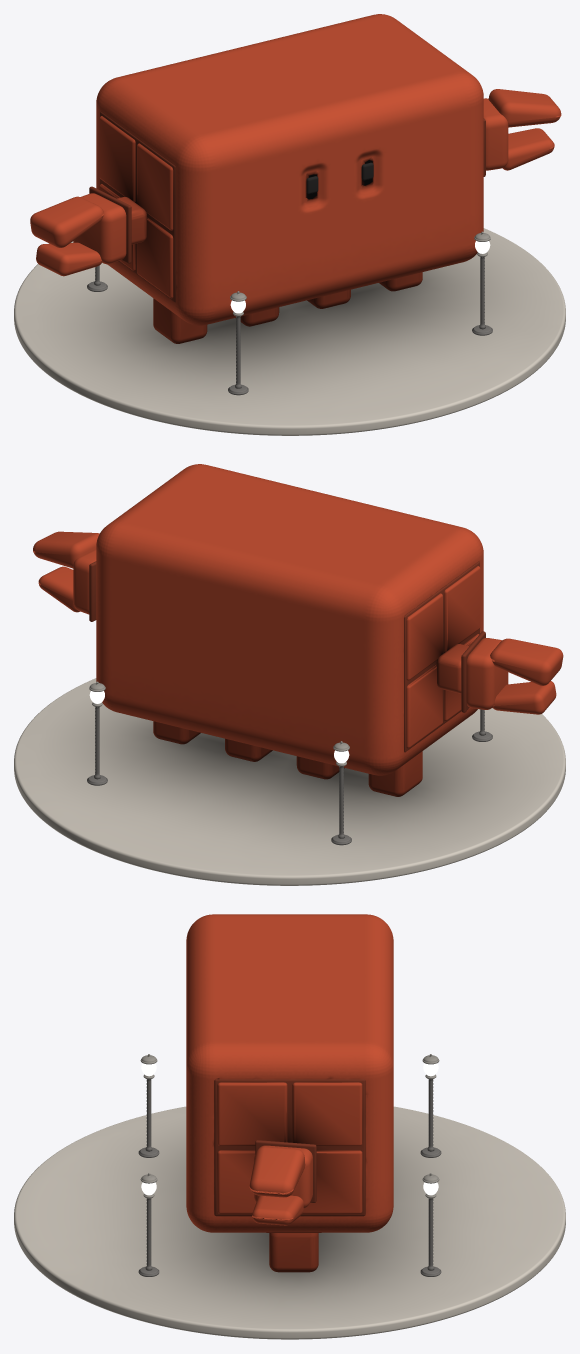
The model's file is clawd.glb.
3 renders of one model, top to bottom at view 1: azimuth 30°, elevation 25°; view 2: azimuth 150°, elevation 25°; view 3: azimuth 270°, elevation 25°, orthographic.
Parts seen in each view (by area): view 1: Clawd_body, Clawd_base, Clawd_claw_L_upper, Clawd_panel_L01, Clawd_panel_L11, Clawd_claw_L_root, Clawd_panel_L00, Clawd_claw_R_upper, Clawd_claw_L_lower, Clawd_claw_R_root, Clawd_claw_R_lower, Clawd_leg_0 (+3 smaller); view 2: Clawd_body, Clawd_base, Clawd_panel_L11, Clawd_claw_L_upper, Clawd_panel_L01, Clawd_panel_L10, Clawd_claw_L_root, Clawd_claw_R_upper, Clawd_claw_L_lower, Clawd_leg_0, Clawd_panel_L_backing, Clawd_claw_L_arm (+6 smaller); view 3: Clawd_base, Clawd_body, Clawd_panel_R11, Clawd_panel_R01, Clawd_panel_R10, Clawd_panel_R_backing, Clawd_claw_R_upper, Clawd_panel_R00, Clawd_leg_3, Clawd_claw_R_lower, Clawd_claw_R_root, Clawd_claw_R_root_ring.
Part boxes in pixels (<box>): Clawd_body: <box>96,14,483,325</box>; Clawd_base: <box>14,228,565,435</box>; Clawd_claw_L_upper: <box>30,196,103,247</box>; Clawd_panel_L01: <box>137,143,173,230</box>; Clawd_panel_L11: <box>99,116,135,202</box>; Clawd_claw_L_root: <box>73,193,126,264</box>; Clawd_panel_L00: <box>137,217,173,298</box>; Clawd_claw_R_upper: <box>488,89,561,127</box>; Clawd_claw_L_lower: <box>36,242,102,276</box>; Clawd_claw_R_root: <box>483,98,508,170</box>; Clawd_claw_R_lower: <box>502,128,554,170</box>; Clawd_leg_0: <box>153,298,207,343</box>; Clawd_body: <box>96,464,483,775</box>; Clawd_base: <box>14,678,565,885</box>; Clawd_panel_L11: <box>406,593,442,680</box>; Clawd_claw_L_upper: <box>490,638,563,685</box>; Clawd_panel_L01: <box>444,566,480,652</box>; Clawd_panel_L10: <box>406,664,442,748</box>; Clawd_claw_L_root: <box>466,638,508,709</box>; Clawd_claw_R_upper: <box>33,531,99,568</box>; Clawd_claw_L_lower: <box>492,681,556,714</box>; Clawd_leg_0: <box>368,751,422,796</box>; Clawd_panel_L_backing: <box>404,561,479,752</box>; Clawd_claw_L_arm: <box>436,644,468,693</box>; Clawd_base: <box>14,1106,565,1339</box>; Clawd_body: <box>186,914,393,1232</box>; Clawd_panel_R11: <box>292,1082,362,1145</box>; Clawd_panel_R01: <box>217,1082,287,1145</box>; Clawd_panel_R10: <box>302,1150,362,1213</box>; Clawd_panel_R_backing: <box>214,1079,365,1216</box>; Clawd_claw_R_upper: <box>249,1146,305,1197</box>; Clawd_panel_R00: <box>217,1150,255,1213</box>; Clawd_leg_3: <box>269,1233,318,1272</box>; Clawd_claw_R_lower: <box>252,1195,303,1225</box>; Clawd_claw_R_root: <box>254,1145,312,1208</box>; Clawd_claw_R_root_ring: <box>255,1140,316,1202</box>.
Size of the model in its own units: 19.53 by 8.79 by 18.
